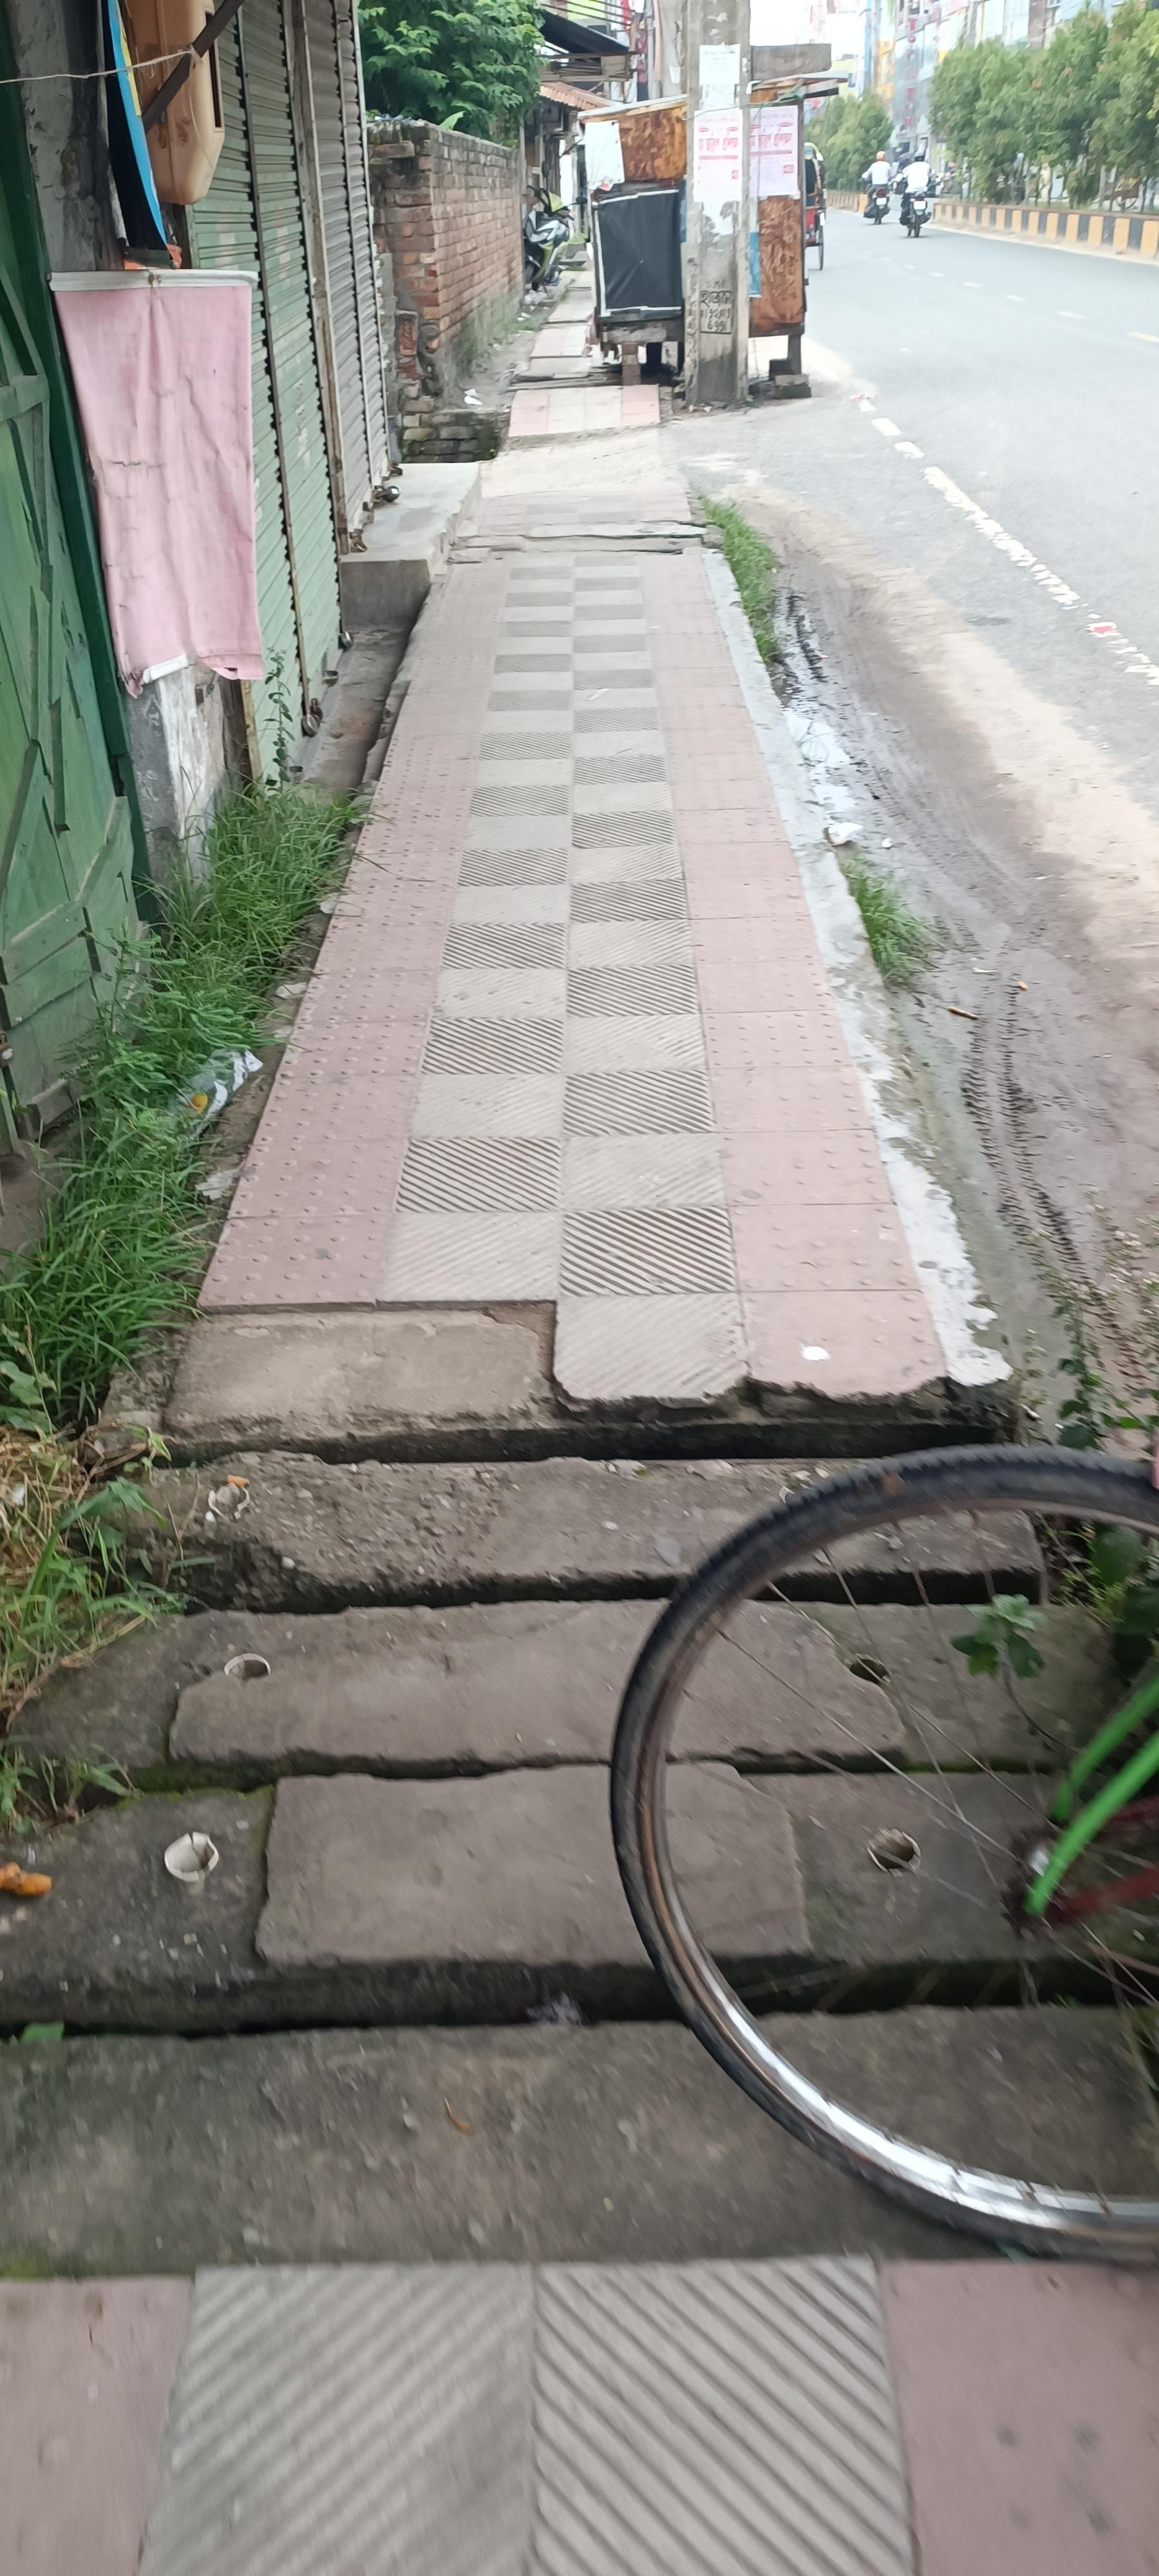Fallen-tree: (522, 187, 573, 291), (898, 184, 936, 237)
Garbage-bin: (860, 149, 893, 222)
Light-pole: (670, 66, 804, 483)
Pothole: (218, 284, 992, 1416)
